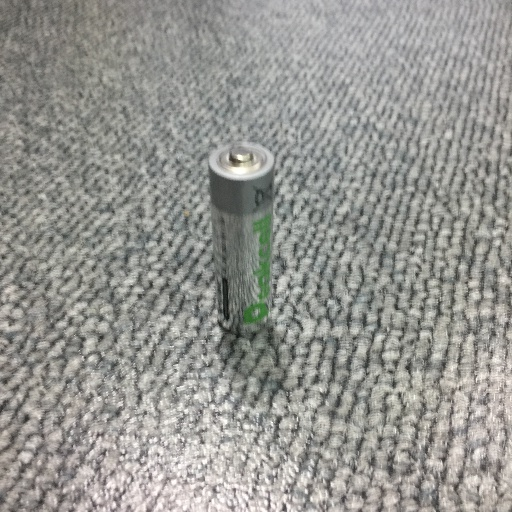Battery_0: (203, 130, 290, 347)
